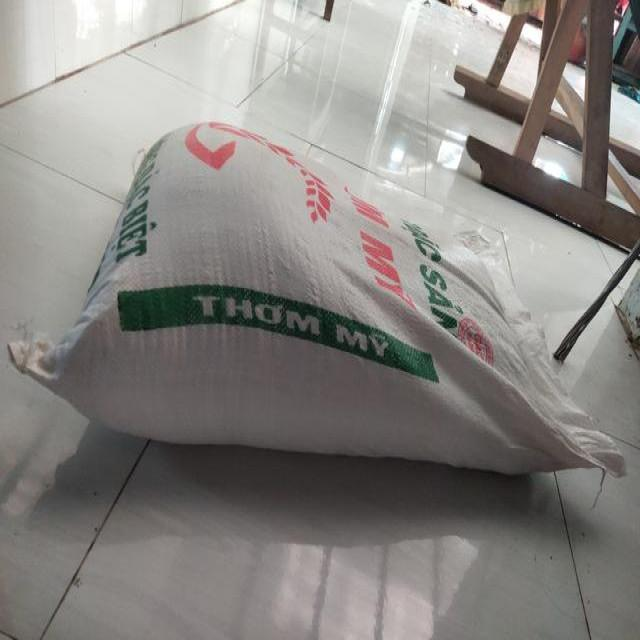gunny_bag: (8, 121, 626, 475)
